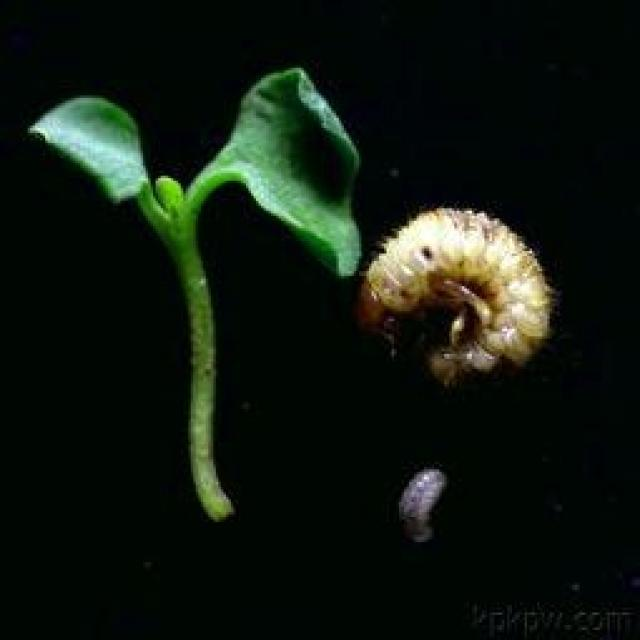grub: (356, 195, 575, 394)
